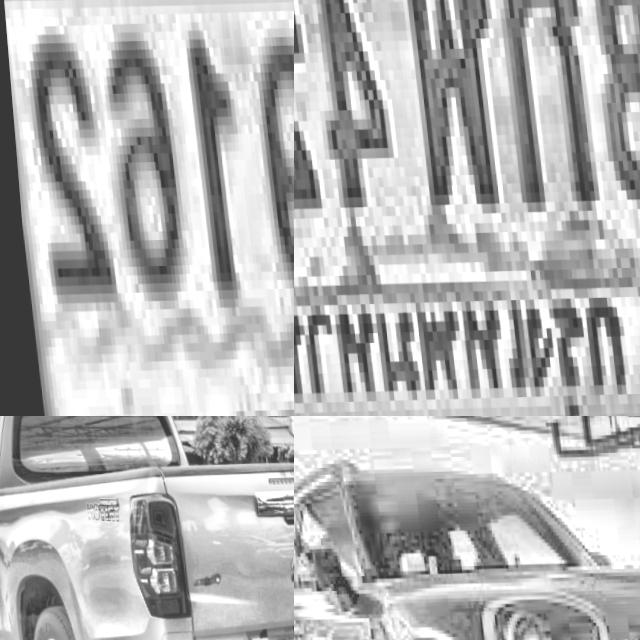license-plate: (294, 0, 640, 416), (0, 0, 294, 416)
